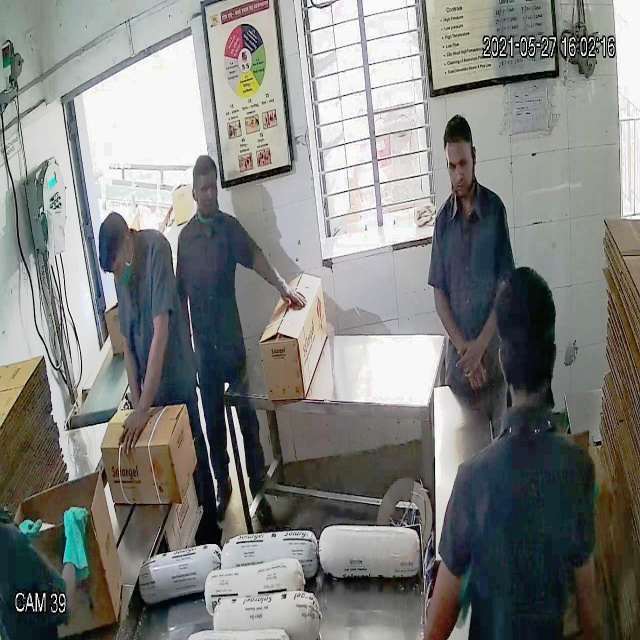Sin_gafas: (442, 146, 483, 180)
